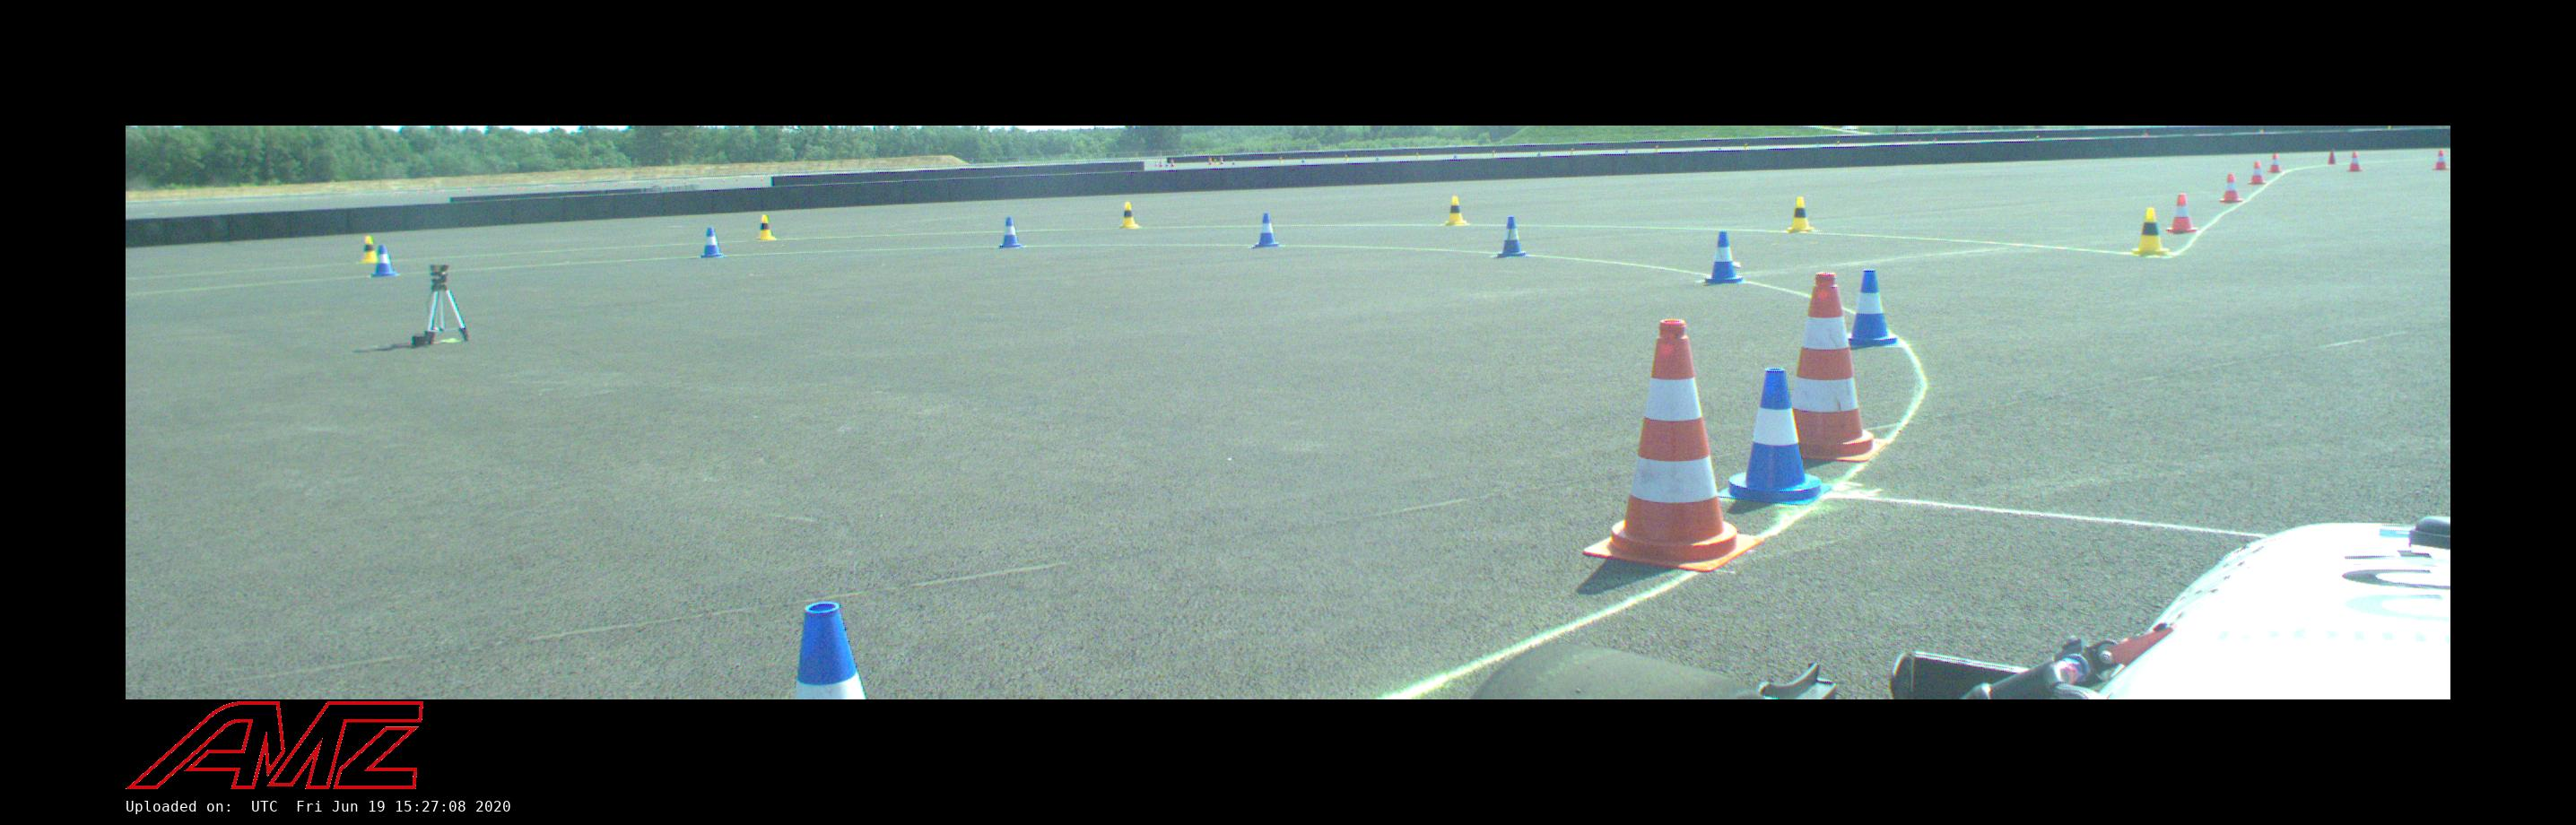blue_cone: (1722, 368, 1831, 504), (1847, 270, 1896, 346), (1702, 231, 1744, 282), (1496, 216, 1526, 257), (1251, 213, 1280, 247), (370, 245, 396, 276), (700, 228, 724, 257), (998, 216, 1021, 247)
large_orange_cone: (1580, 319, 1763, 573), (1793, 273, 1887, 461)
orange_cone: (2165, 194, 2198, 232), (2219, 174, 2243, 202), (2248, 161, 2265, 184), (2432, 149, 2449, 169), (2267, 153, 2282, 172), (2346, 152, 2362, 170)
unknown_cone: (2327, 148, 2336, 164)
yellow_cone: (2131, 208, 2169, 256), (1787, 197, 1815, 233), (1445, 195, 1466, 225), (756, 214, 775, 240), (1119, 202, 1137, 228), (361, 235, 376, 261)
